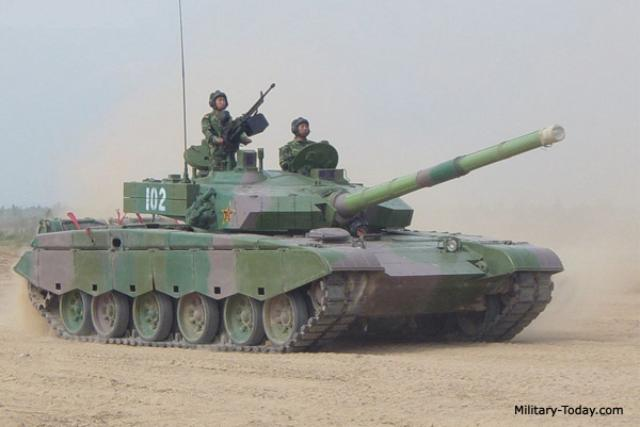other: (199, 88, 241, 145), (281, 115, 309, 166)
tank: (20, 148, 554, 343)
